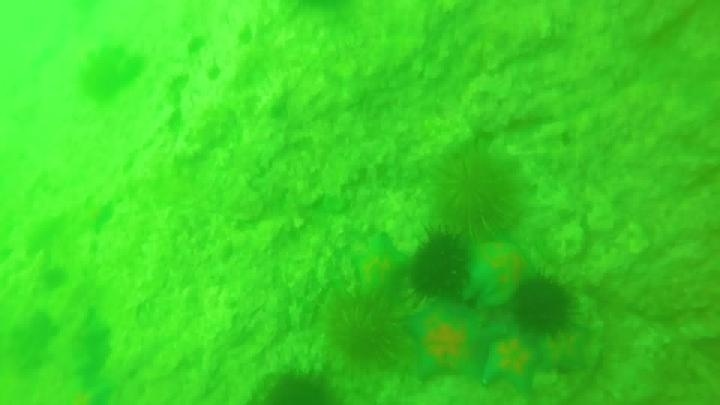echinus: (425, 135, 525, 233), (321, 288, 408, 371), (406, 226, 474, 302), (510, 272, 579, 339), (258, 364, 343, 404), (36, 256, 69, 286)
starfish: (390, 303, 492, 388), (460, 235, 540, 309), (344, 228, 411, 301), (476, 333, 546, 396), (533, 323, 597, 379), (68, 304, 115, 370), (51, 372, 115, 403), (75, 192, 118, 235)
